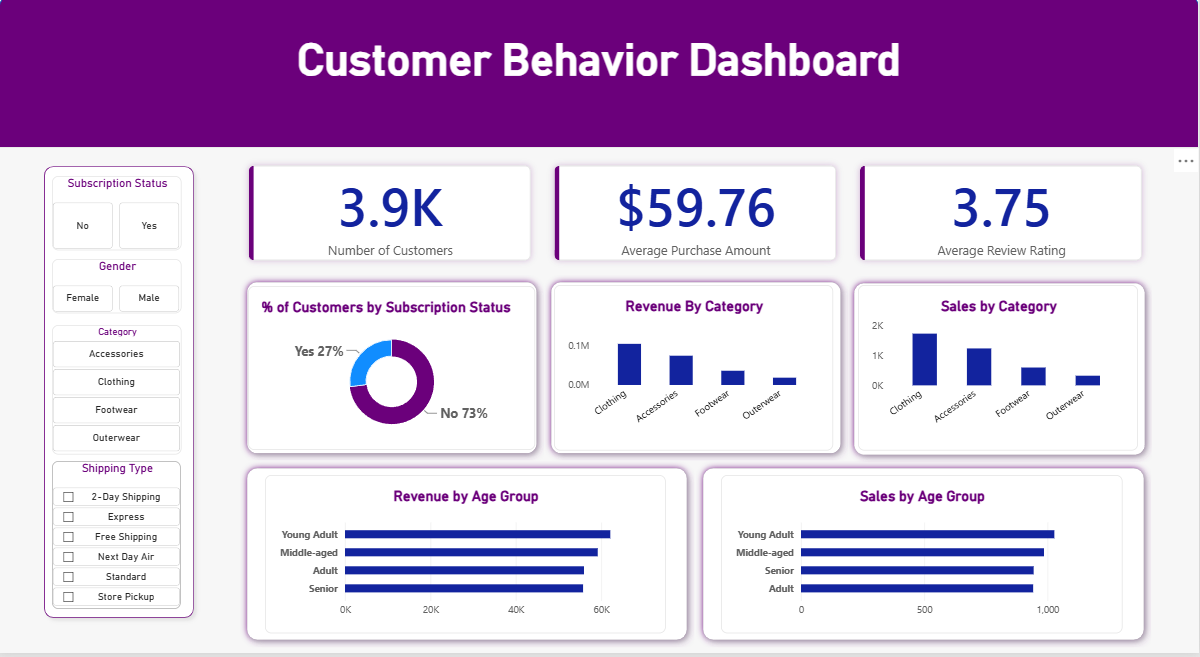

The page's visual inventory and layout, read from the dashboard file:
{"tool":"powerbi","page":{"name":"Page 1","canvas":[1500,820],"ordinal":0},"visuals":[{"type":"cardVisual","fields":{"Data":["customer.Number of Customers","customer.Average Purchase Amount","customer.Average Review Rating"]},"box":[301.2,200,1138.8,140],"z":0},{"type":"group","id":"g1","title":"Group 1","box":[301.2,347.5,379.8,232],"z":0,"group":"g8"},{"type":"shape","box":[301.2,347.5,379.8,232],"z":0,"group":"g1"},{"type":"shape","box":[681.3,347.8,379.8,232],"z":0,"group":"g4"},{"type":"shape","box":[1059.6,348.1,381.2,232.5],"z":0,"group":"g10"},{"type":"group","id":"g2","title":"Group 1","box":[301.2,580,567.5,232.5],"z":0,"group":"g5"},{"type":"shape","box":[301.2,580,567.5,232.5],"z":0,"group":"g2"},{"type":"shape","box":[871.2,580,568.8,232.5],"z":0,"group":"g3"},{"type":"group","id":"g3","title":"Group 1","box":[871.2,580,568.8,232.5],"z":0,"group":"g6"},{"type":"shape","box":[0,0,1500,188.8],"z":1000},{"type":"group","id":"g4","title":"Group 1","box":[681.3,347.8,379.8,232],"z":1000,"group":"g9"},{"type":"donutChart","title":"% of Customers by Subscription Status","fields":{"Category":["customer.subscription_status"],"Y":["CountNonNull(customer.customer_id)"]},"box":[310.8,361.8,359.4,204.5],"z":1000,"group":"g1"},{"type":"textbox","title":"Customer Behavior Dashboard","box":[0,45,1500,143.8],"z":2000},{"type":"group","id":"g5","title":"Group 4","box":[301.2,580,567.5,232.5],"z":3000,"group":"g11"},{"type":"group","id":"g6","title":"Group 4","box":[871.2,580,568.8,232.5],"z":3000,"group":"g12"},{"type":"shape","box":[47.5,202.2,205,582.5],"z":4000,"group":"g7"},{"type":"group","id":"g7","title":"Group 5","box":[47.5,202.2,205,582.5],"z":4000},{"type":"group","id":"g8","title":"Group 4","box":[301.2,347.5,379.7,231.1],"z":4000,"group":"g9"},{"type":"advancedSlicerVisual","title":"Subscription Status","fields":{"Values":["customer.subscription_status"]},"box":[66.7,223.4,161.7,93],"z":5000,"group":"g7"},{"type":"group","id":"g9","title":"Group 3","box":[301.2,347.5,1139.7,233.1],"z":5000},{"type":"advancedSlicerVisual","title":"Gender","fields":{"Values":["customer.gender"]},"box":[66.7,327.5,161.7,67.7],"z":6000,"group":"g7"},{"type":"group","id":"g10","title":"Group 1","box":[1059.6,348.1,381.2,232.5],"z":6000,"group":"g13"},{"type":"clusteredBarChart","title":"Revenue by Age Group","fields":{"Category":["customer.age_group"],"Y":["Sum(customer.purchase_amount)"]},"box":[333,597.5,500.6,197.9],"z":6000,"group":"g11"},{"type":"clusteredBarChart","title":"Sales by Age Group","fields":{"Category":["customer.age_group"],"Y":["CountNonNull(customer.customer_id)"]},"box":[903,597.5,501.7,197.9],"z":6000,"group":"g12"},{"type":"group","id":"g11","title":"Group 6","box":[301.2,580,567.5,232.5],"z":6001},{"type":"group","id":"g12","title":"Group 6","box":[871.2,580,568.8,232.5],"z":6002},{"type":"advancedSlicerVisual","title":"Category","fields":{"Values":["customer.category"]},"box":[66.7,409.4,161.7,161.7],"z":7000,"group":"g7"},{"type":"advancedSlicerVisual","title":"Shipping Type","fields":{"Values":["customer.shipping_type"]},"box":[66.7,579.2,161.2,185],"z":8000,"group":"g7"},{"type":"clusteredColumnChart","title":"Sales by Category","fields":{"Category":["customer.category"],"Y":["CountNonNull(customer.customer_id)"]},"box":[1074,359.4,350.2,207.4],"z":8003,"group":"g13"},{"type":"clusteredColumnChart","title":"Revenue By Category","fields":{"Category":["customer.category"],"Y":["Sum(customer.purchase_amount)"]},"box":[694.1,360.2,348.9,207],"z":8003,"group":"g4"},{"type":"group","id":"g13","title":"Group 2","box":[1059.6,348.1,381.2,232.5],"z":8004,"group":"g9"}]}

Visuals, with their boxes in screenshot pixels (x1, y1, x2, y2), scaled from the page's 1500x820 canvas onto the 1200x657 screenshot:
cardVisual - customer.Number of Customers x customer.Average Purchase Amount: box=[241, 160, 1152, 272]
"Group 1" group: box=[241, 278, 545, 464]
shape: box=[241, 278, 545, 464]
shape: box=[545, 279, 849, 465]
shape: box=[848, 279, 1153, 465]
"Group 1" group: box=[241, 465, 695, 651]
shape: box=[241, 465, 695, 651]
shape: box=[697, 465, 1152, 651]
"Group 1" group: box=[697, 465, 1152, 651]
shape: box=[0, 0, 1199, 151]
"Group 1" group: box=[545, 279, 849, 465]
"% of Customers by Subscription Status" donutChart: box=[249, 290, 536, 454]
"Customer Behavior Dashboard" textbox: box=[0, 36, 1199, 151]
"Group 4" group: box=[241, 465, 695, 651]
"Group 4" group: box=[697, 465, 1152, 651]
shape: box=[38, 162, 202, 629]
"Group 5" group: box=[38, 162, 202, 629]
"Group 4" group: box=[241, 278, 545, 464]
"Subscription Status" advancedSlicerVisual: box=[53, 179, 183, 254]
"Group 3" group: box=[241, 278, 1153, 465]
"Gender" advancedSlicerVisual: box=[53, 262, 183, 317]
"Group 1" group: box=[848, 279, 1153, 465]
"Revenue by Age Group" clusteredBarChart: box=[266, 479, 667, 637]
"Sales by Age Group" clusteredBarChart: box=[722, 479, 1124, 637]
"Group 6" group: box=[241, 465, 695, 651]
"Group 6" group: box=[697, 465, 1152, 651]
"Category" advancedSlicerVisual: box=[53, 328, 183, 458]
"Shipping Type" advancedSlicerVisual: box=[53, 464, 182, 612]
"Sales by Category" clusteredColumnChart: box=[859, 288, 1139, 454]
"Revenue By Category" clusteredColumnChart: box=[555, 289, 834, 454]
"Group 2" group: box=[848, 279, 1153, 465]
